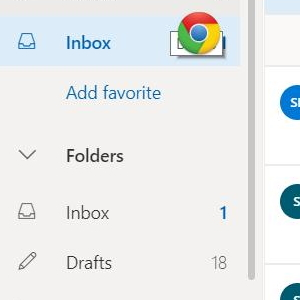chrome: (178, 12, 220, 55)
